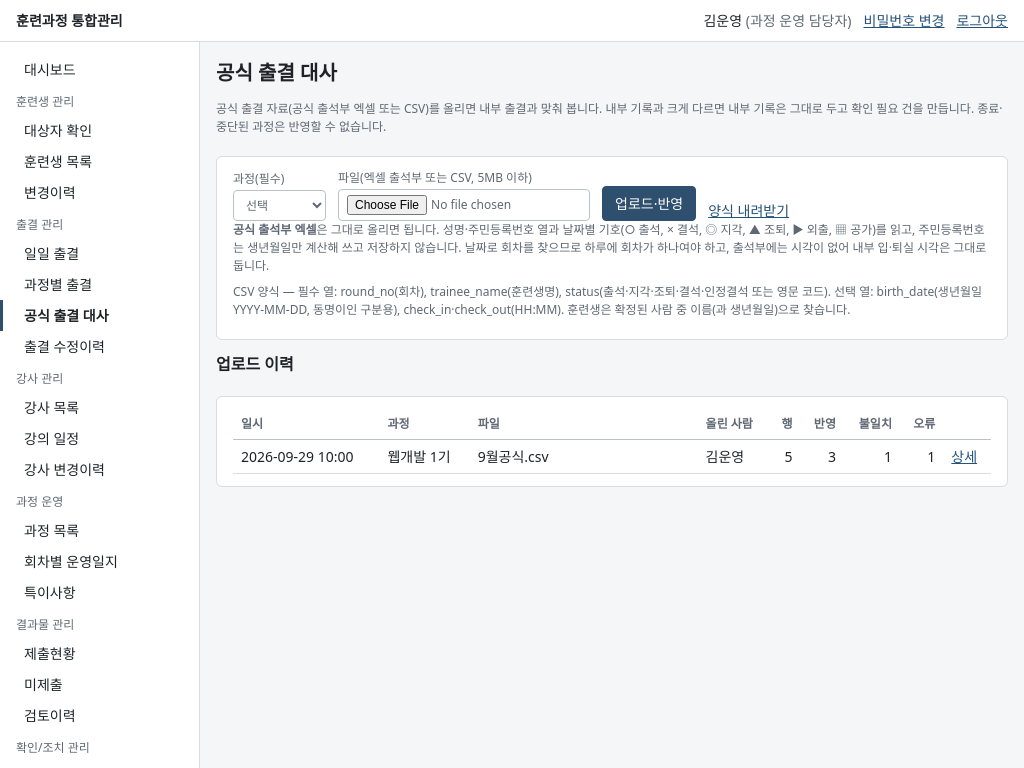
Test: S29 공식 출결 대사 › 이력에서 상세를 열면 그 업로드의 행별 결과를 보여 준다
The width and height of the screenshot is (1024, 768).
Expected: the row "2026-09-29 10:00 웹개발 1기 9월공식.csv 김운영 5 3 1 1 상세" is shown, x1=233 y1=440 x2=991 y2=474
Click the button with aria-label "9월공식.csv 상세" at (964, 456), box x1=951 y1=446 x2=977 y2=467
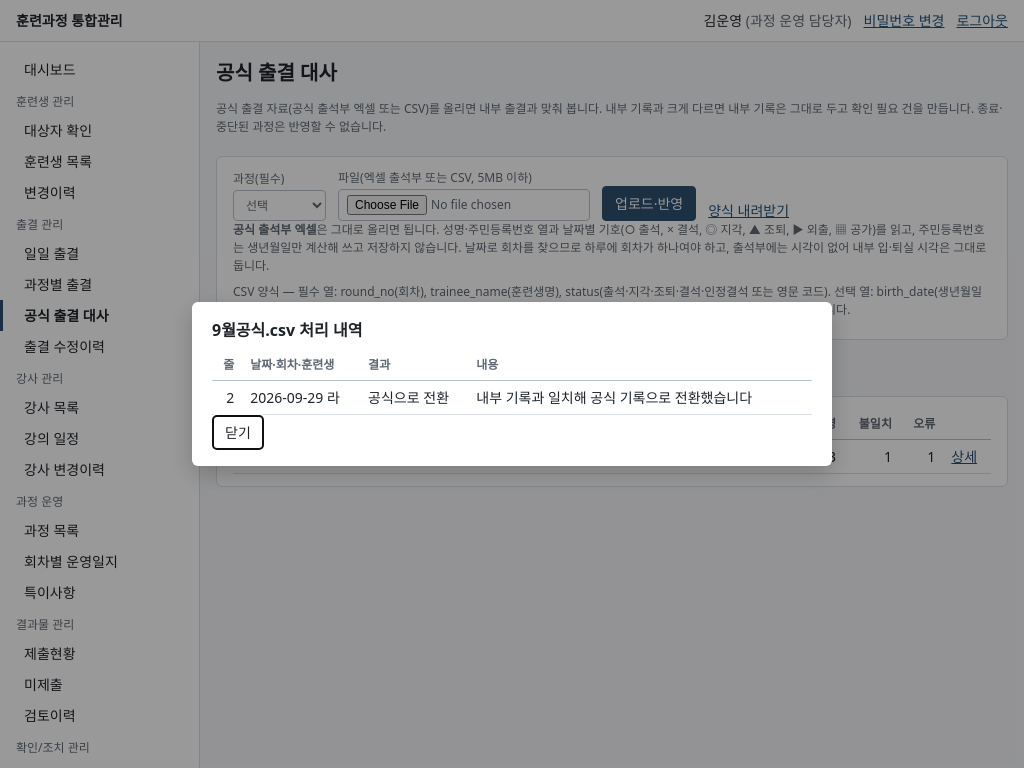
Expected: the text "공식으로 전환" is shown, x1=360 y1=380 x2=468 y2=414
